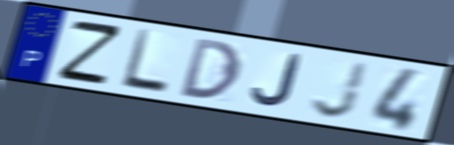4: (370, 64, 420, 134)
D: (178, 36, 244, 102)
J: (308, 59, 373, 121), (249, 52, 305, 109)
L: (118, 27, 171, 96)
Z: (55, 18, 125, 86)
